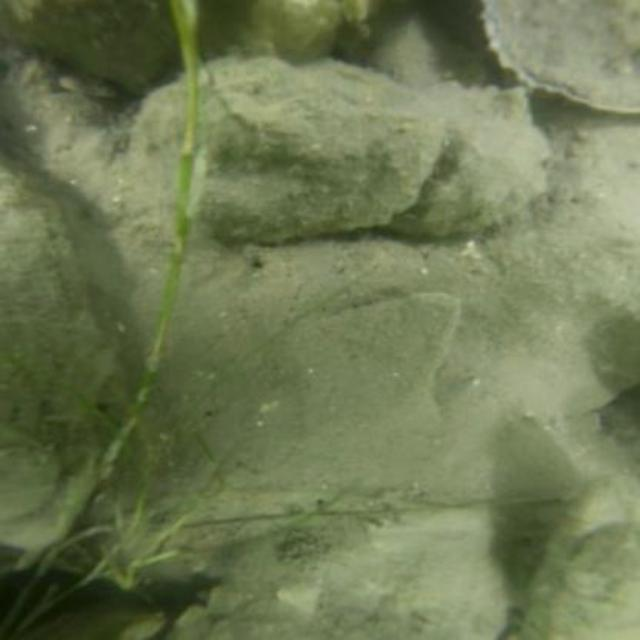Oyster-Closed: (162, 507, 508, 638), (192, 54, 436, 238), (400, 75, 545, 237), (483, 0, 638, 113), (523, 498, 638, 638), (17, 1, 179, 86)
Oyster-Open: (2, 175, 115, 552)
